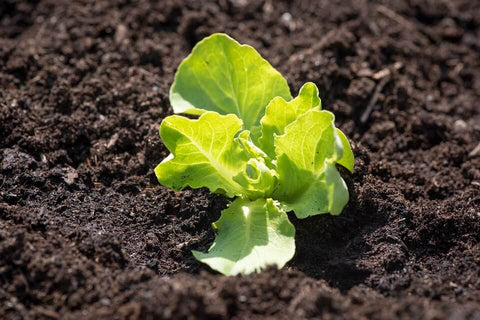lettuce: (130, 13, 376, 296)
